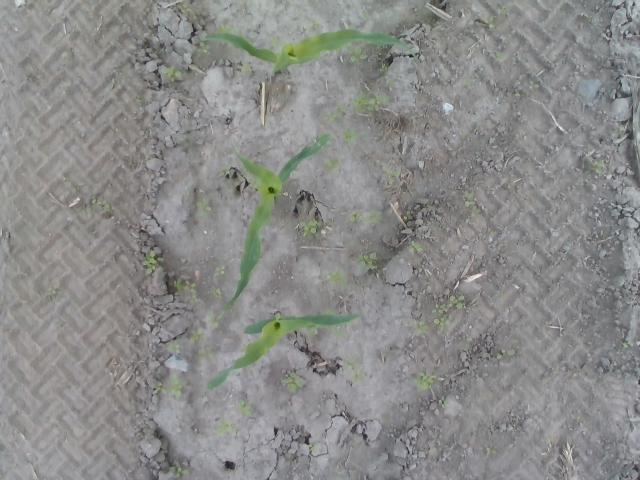Maize: (225, 135, 332, 312), (205, 308, 362, 391), (196, 28, 417, 79)
Weeds: (151, 374, 190, 400), (353, 92, 388, 111), (276, 371, 304, 394), (341, 357, 364, 385), (323, 102, 352, 124), (348, 208, 384, 224), (89, 196, 112, 216), (142, 248, 159, 274), (378, 63, 395, 89), (171, 278, 197, 294), (432, 304, 448, 328), (340, 128, 361, 146), (166, 464, 192, 478), (356, 251, 376, 269), (300, 217, 320, 235), (348, 46, 368, 64), (194, 196, 213, 214), (238, 397, 254, 417), (207, 311, 224, 329), (447, 294, 465, 311), (215, 418, 234, 434), (414, 374, 433, 390), (190, 327, 207, 344), (165, 66, 182, 82), (198, 346, 213, 364), (496, 348, 516, 361), (323, 156, 339, 172), (591, 158, 605, 176), (216, 24, 240, 34), (329, 270, 345, 284), (410, 241, 426, 255), (484, 14, 498, 30), (464, 190, 476, 207), (308, 19, 322, 32), (416, 320, 428, 335), (166, 343, 182, 354), (177, 3, 192, 14), (436, 397, 448, 410), (214, 264, 225, 278), (402, 210, 414, 222), (210, 287, 221, 300), (484, 446, 498, 456), (197, 44, 210, 54), (527, 80, 540, 90), (335, 330, 351, 338), (270, 36, 279, 50), (308, 444, 320, 454), (498, 6, 510, 16), (218, 168, 230, 177), (494, 51, 506, 60), (46, 287, 56, 297), (358, 16, 369, 22), (391, 171, 402, 177), (190, 295, 198, 303)
